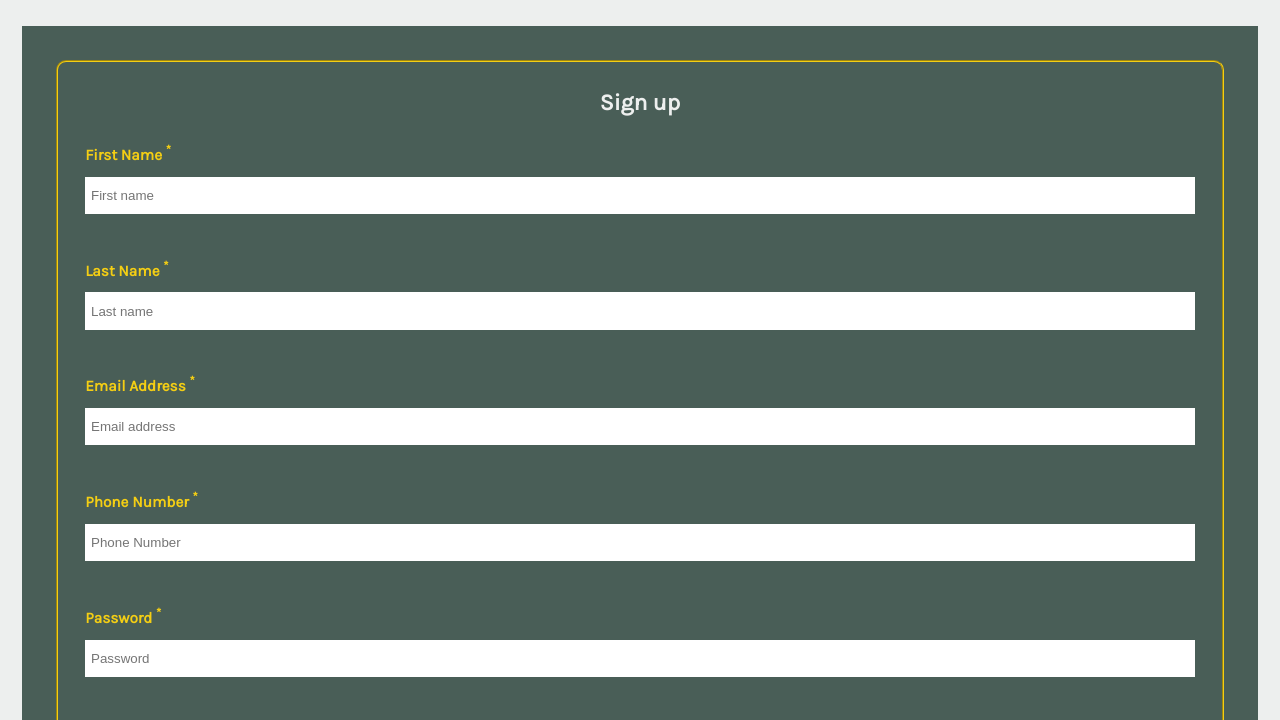
Test case: Submit button is enabled when all required inputs are filled
Note: Fill in the input fields
Type "John" into the field named "firstName" at (640, 195), box [85,177,1195,214]
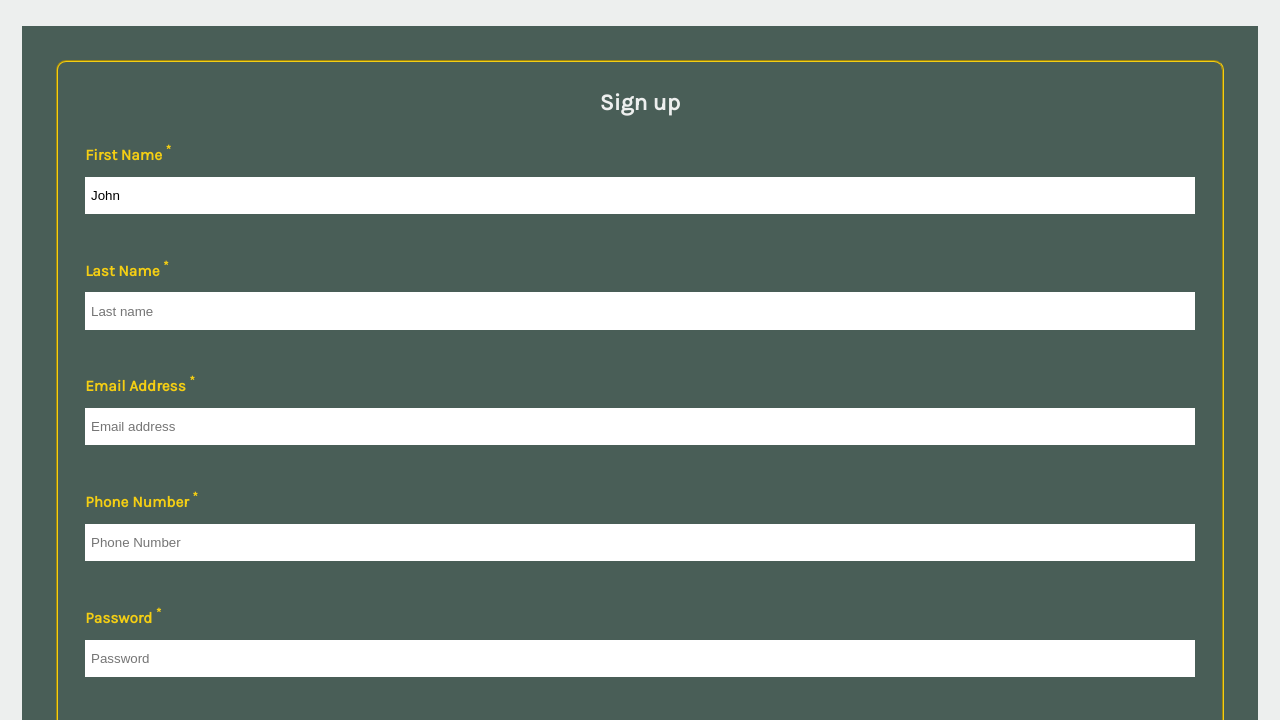
Type "Doe" into the field named "lastName" at (640, 311), box [85,292,1195,330]
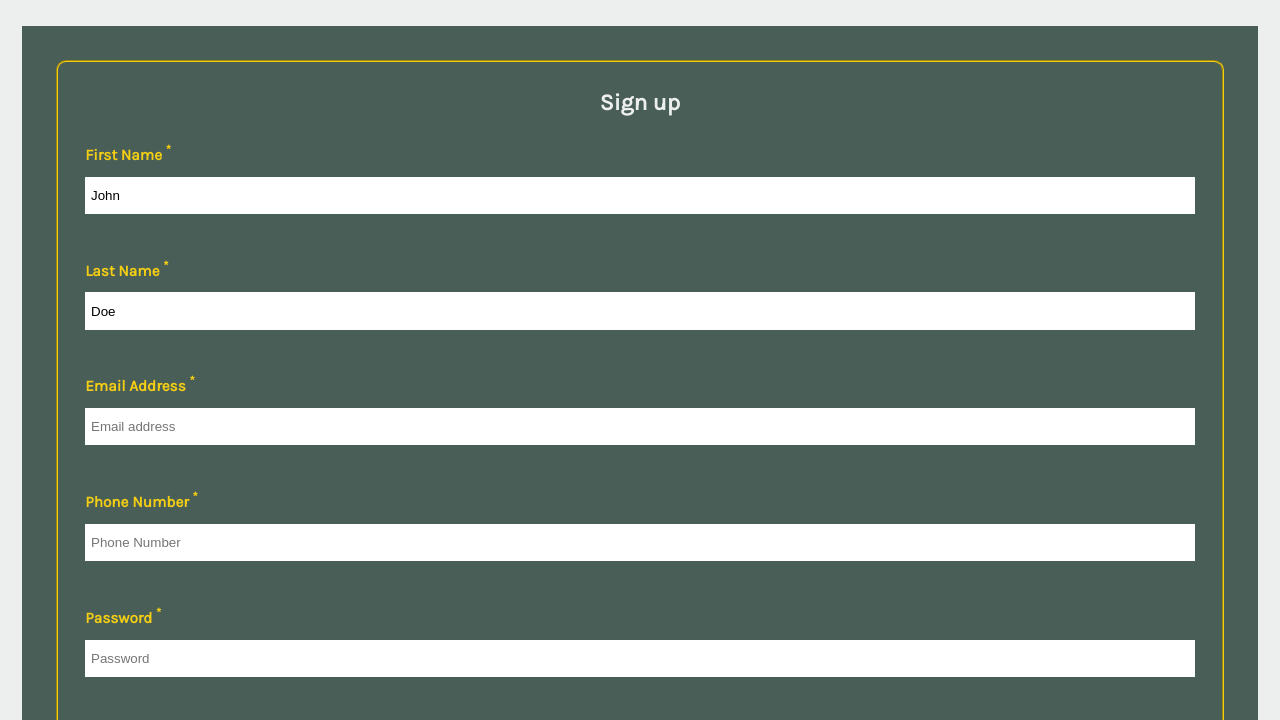
Type "test@example.com" into the field labelled "Email" at (640, 427), box [85,408,1195,446]
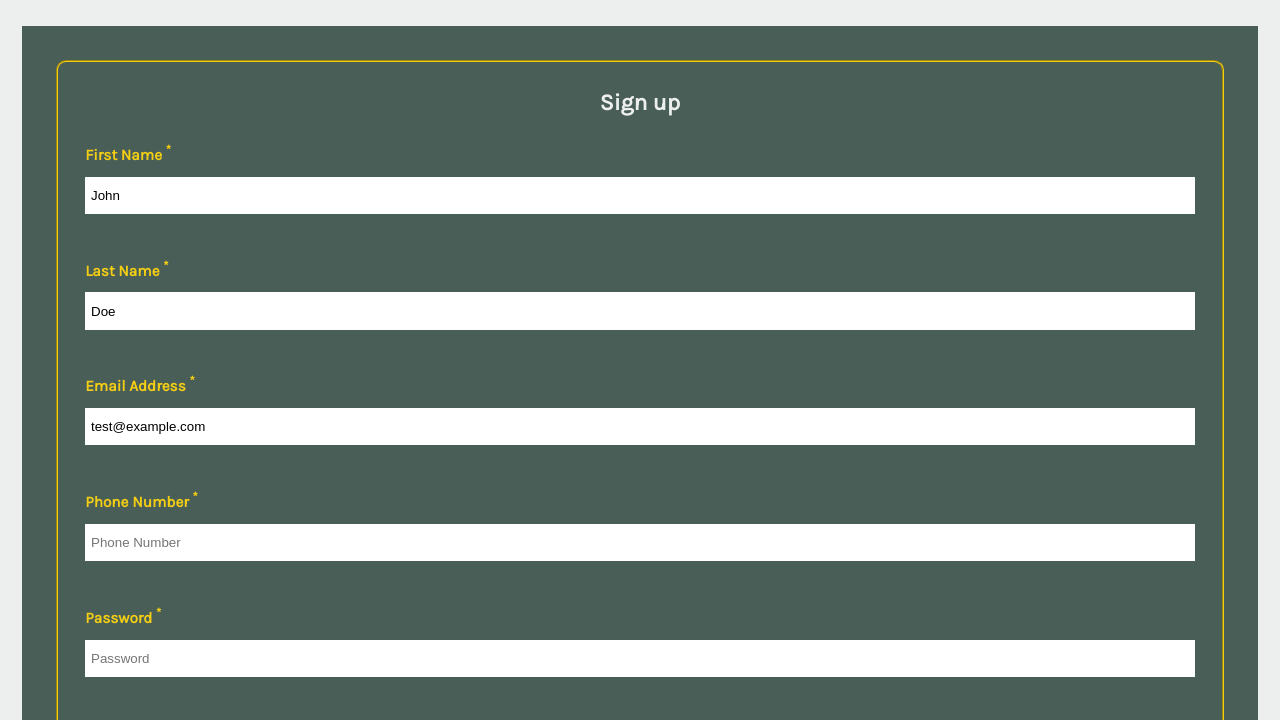
Type "1234567890" into the field named "phoneNumber" at (640, 543), box [85,524,1195,561]
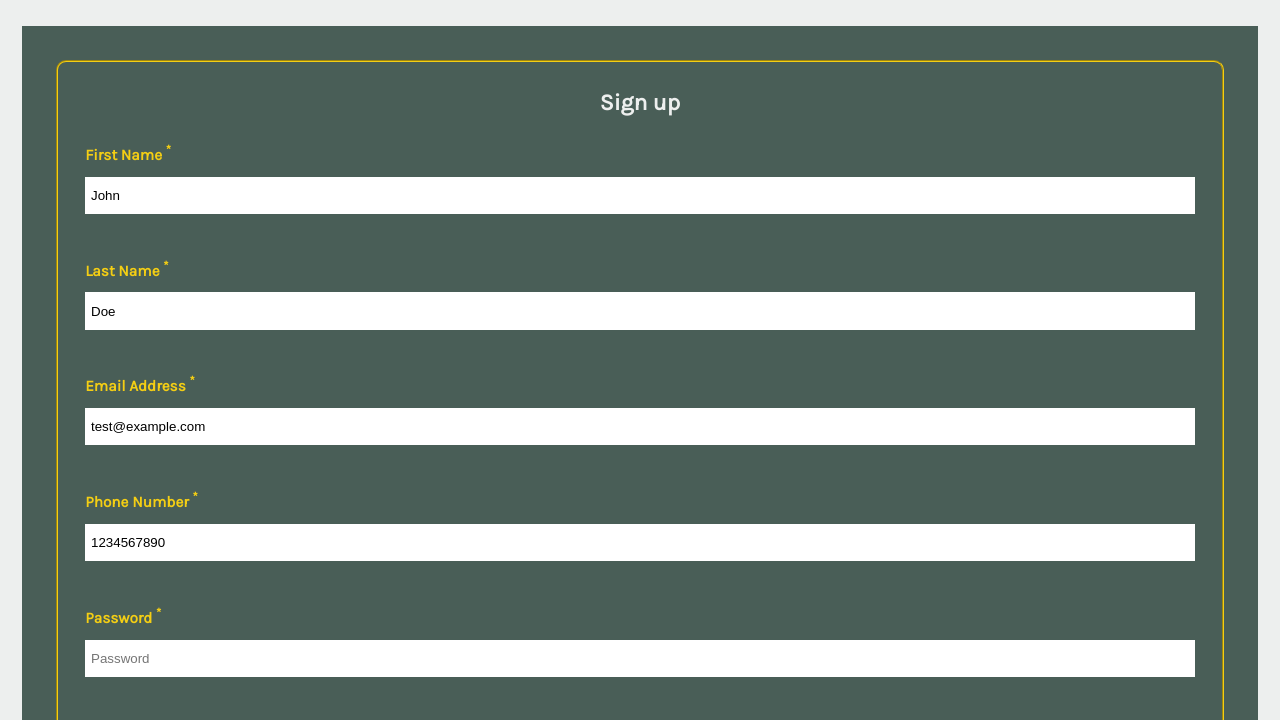
Type "password123" into the password field labelled "Password" at (640, 658), box [85,640,1195,677]
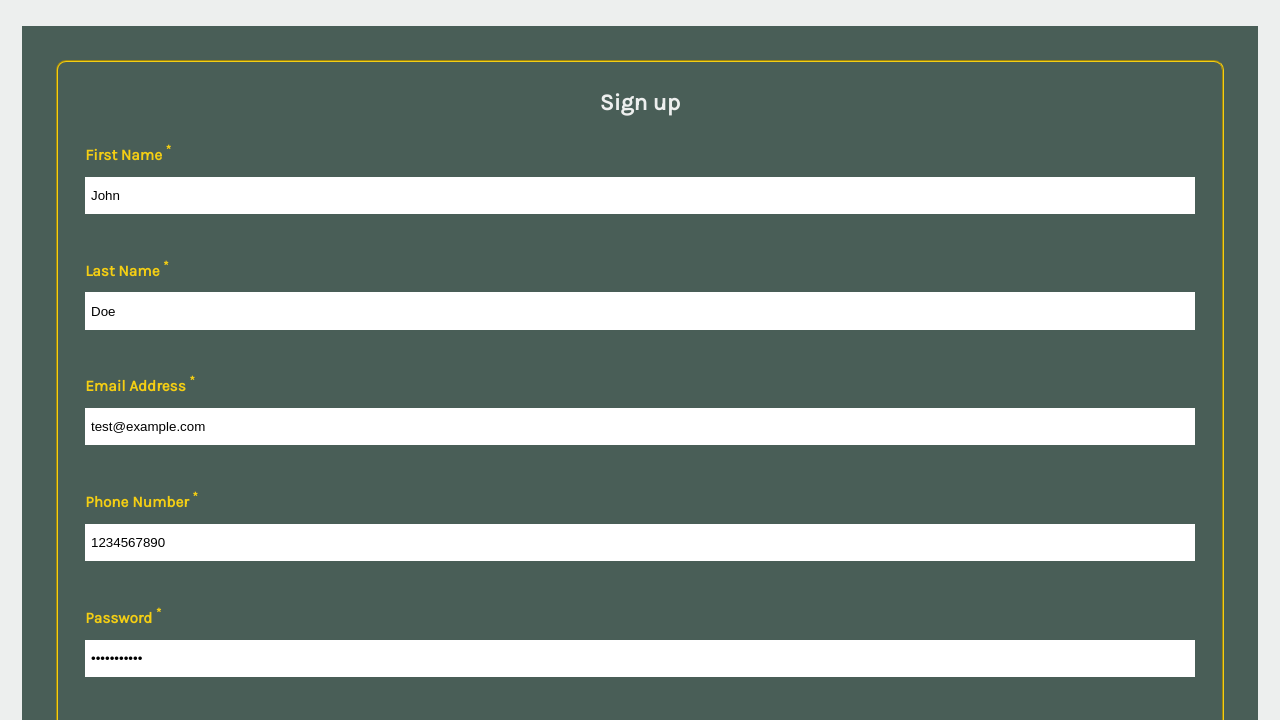
Note: set an invalid input
Clear the field named "firstName" at (640, 195), box [85,177,1195,214]
(page scrolled)
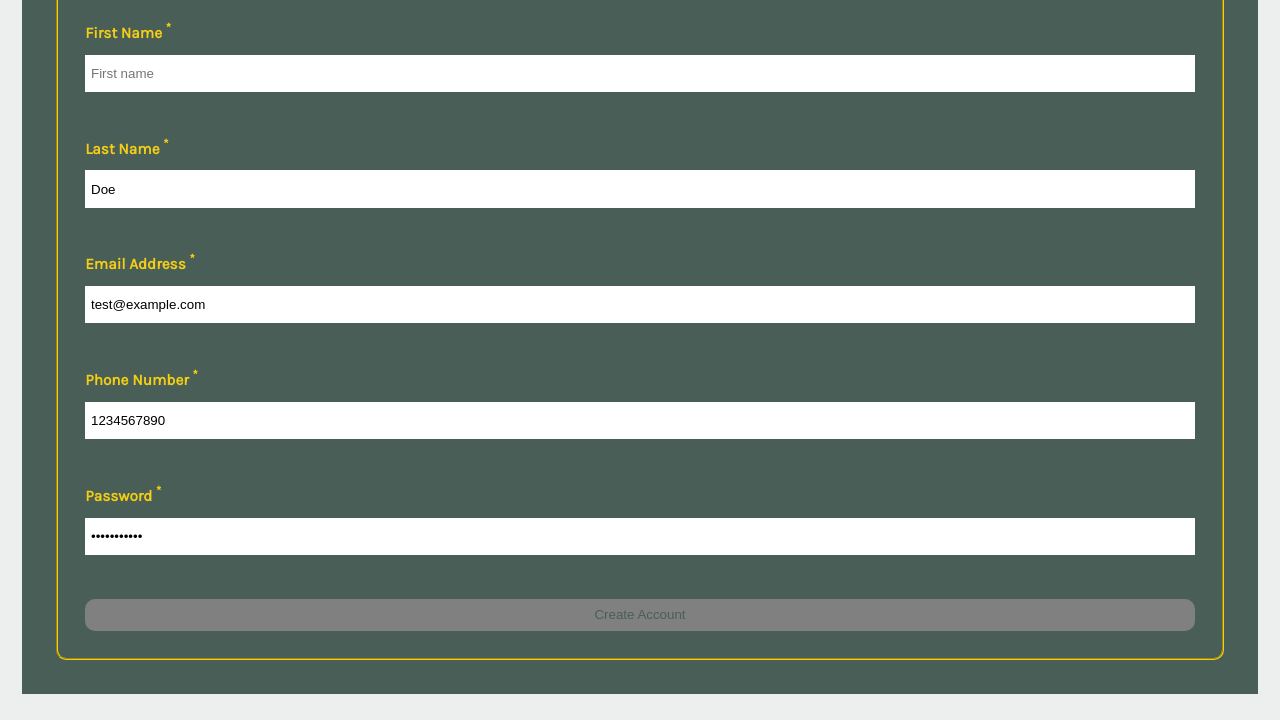
Result: the button "Create Account" is disabled at [85,598,1195,630]
